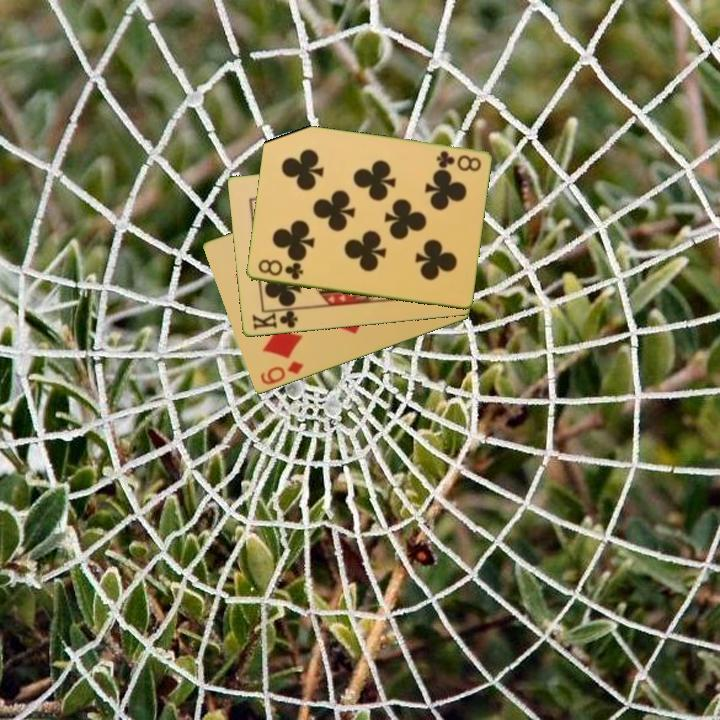6d: (257, 358, 307, 388)
8c: (254, 256, 306, 283), (432, 147, 484, 174)
Kc: (249, 305, 302, 332)
